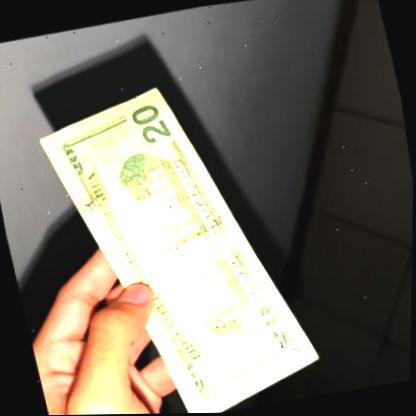twenty-back: (23, 56, 325, 416)
